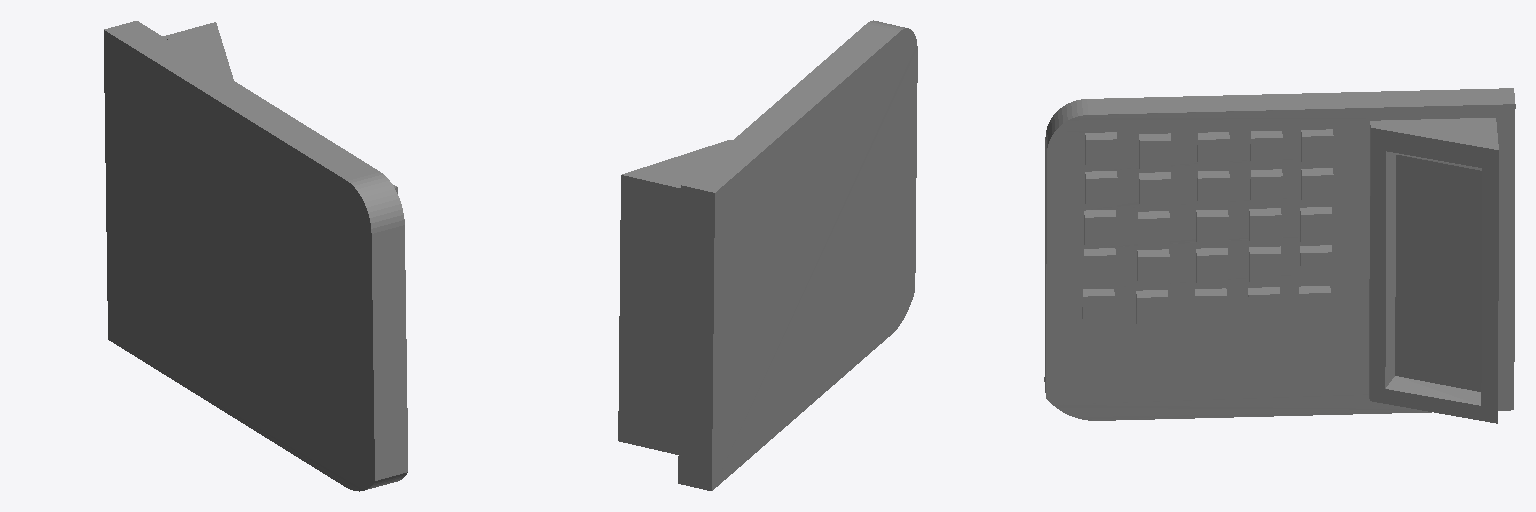
URDF robot description (cube.urdf):
<?xml version="0.0" ?> 
<robot name="cube.urdf"> 
<link name="legobrick"> 
<contact> 
<lateral_friction value="1.0"/>
<rolling_friction value="0.0"/>
<contact_cfm value="0.0"/>
<contact_erp value="1.0"/>
</contact> 
<inertial> 
<origin rpy="0 0 0" xyz="0.0 0.0 0.0"/> 
<mass value="0.1"/> 
<inertia ixx="1" ixy="0" ixz="0" iyy="1" iyz="0" izz="1"/> 
</inertial> 
<visual> 
<origin rpy="1.570796 0 0" xyz="-0.001152925257731959 0.014222730670103094 -0.006989078608247398"/> 
<geometry> 
<mesh filename="2c9ec139a84e56dc4f7c5cc287db4b75_1.obj" scale="1 1 1"/> 
</geometry> 
<material name="yellow"> 
<color rgba="0.6 0.6 0.6 1"/> 
</material> 
</visual> 
<collision> 
<origin rpy="1.570796 0 0" xyz="-0.001152925257731959 0.014222730670103094 -0.006989078608247398"/> 
<geometry> 
<mesh filename="2c9ec139a84e56dc4f7c5cc287db4b75_1_col.obj" scale="1 1 1"/> 
</geometry> 
</collision> 
</link> 
</robot>

--- Facts derived from the render (not from the file) ---
3 views of the same robot in one strip: view 1: azimuth 30°, elevation 25°; view 2: azimuth 150°, elevation 25°; view 3: azimuth 270°, elevation 25° (orthographic).
Robot: cube.urdf — 1 links, 0 joints (none); root link legobrick; default pose: every joint at zero.
Links seen in each view (by area): view 1: legobrick; view 2: legobrick; view 3: legobrick.
Link boxes in pixels (x1,y1,x2,y2): legobrick: (104,21,407,491); legobrick: (618,20,917,490); legobrick: (1044,88,1515,423).
Bounding box of the posed robot: 0.0245 × 0.0941 × 0.0675 m (x, y, z).
Meshes: 1 distinct files referenced, 1 mesh visuals loaded (1 OBJ).
